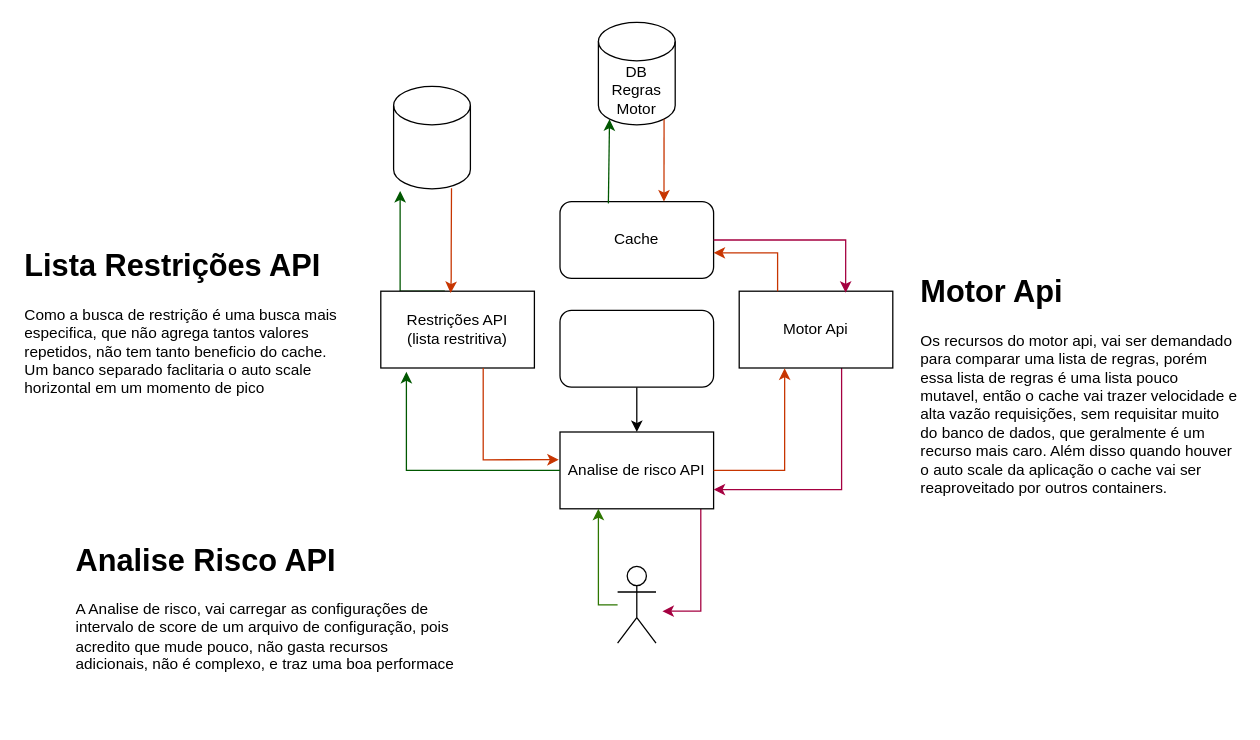
The diagram is 1260 pixels wide and 740 high, and some of its shapes have lost their labels. Each missing label, with the centre of its shape:
"Actor" goes at [636,604].
"Config Personalizada de Score" goes at [636,348].
"DB Restrições" goes at [431,137].
